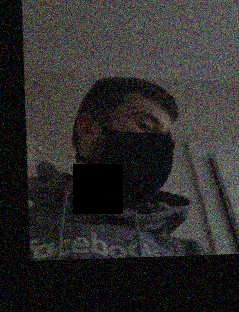with_mask: (104, 103, 175, 206)
